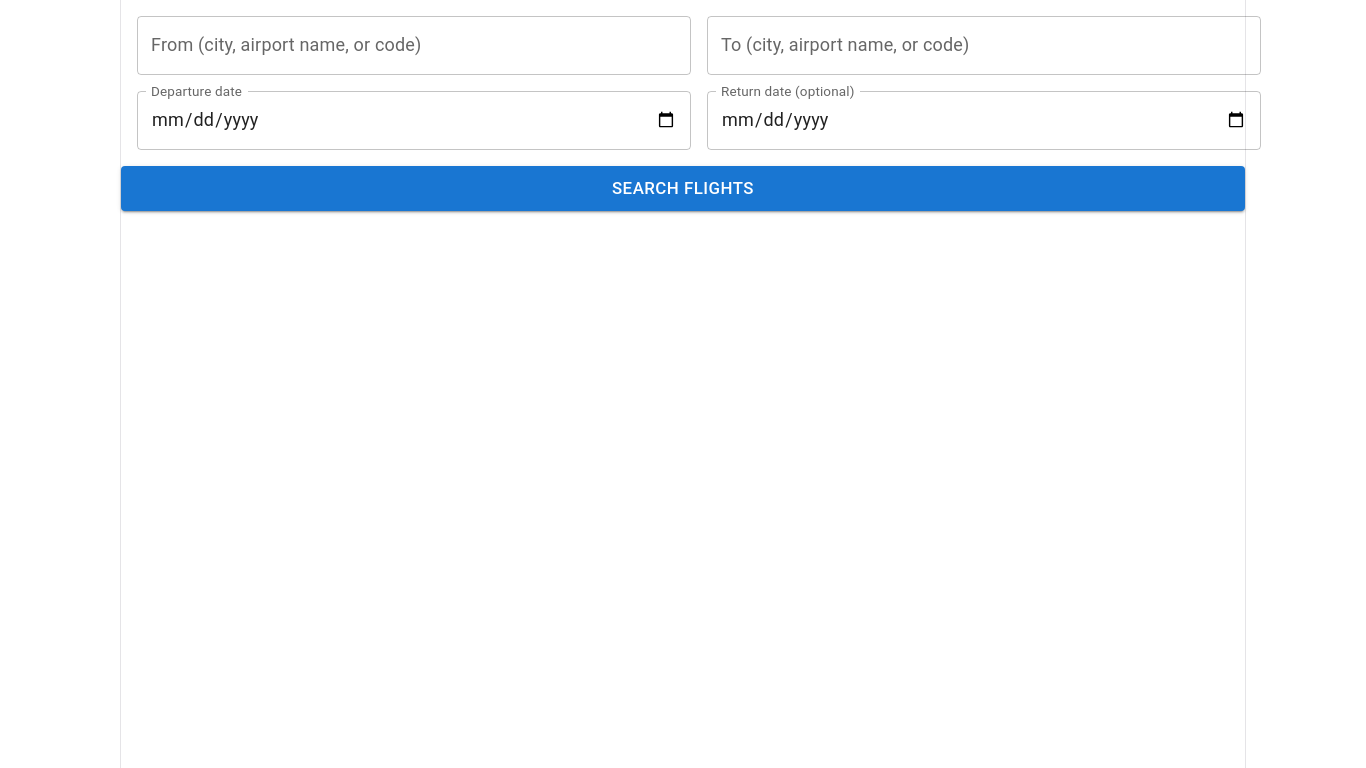
Scenario: SearchForm › rejects a return date earlier than the departure date
In the field labelled "From (city, airport name, or code)": (414, 45) [137, 16, 691, 75], type "JFK"
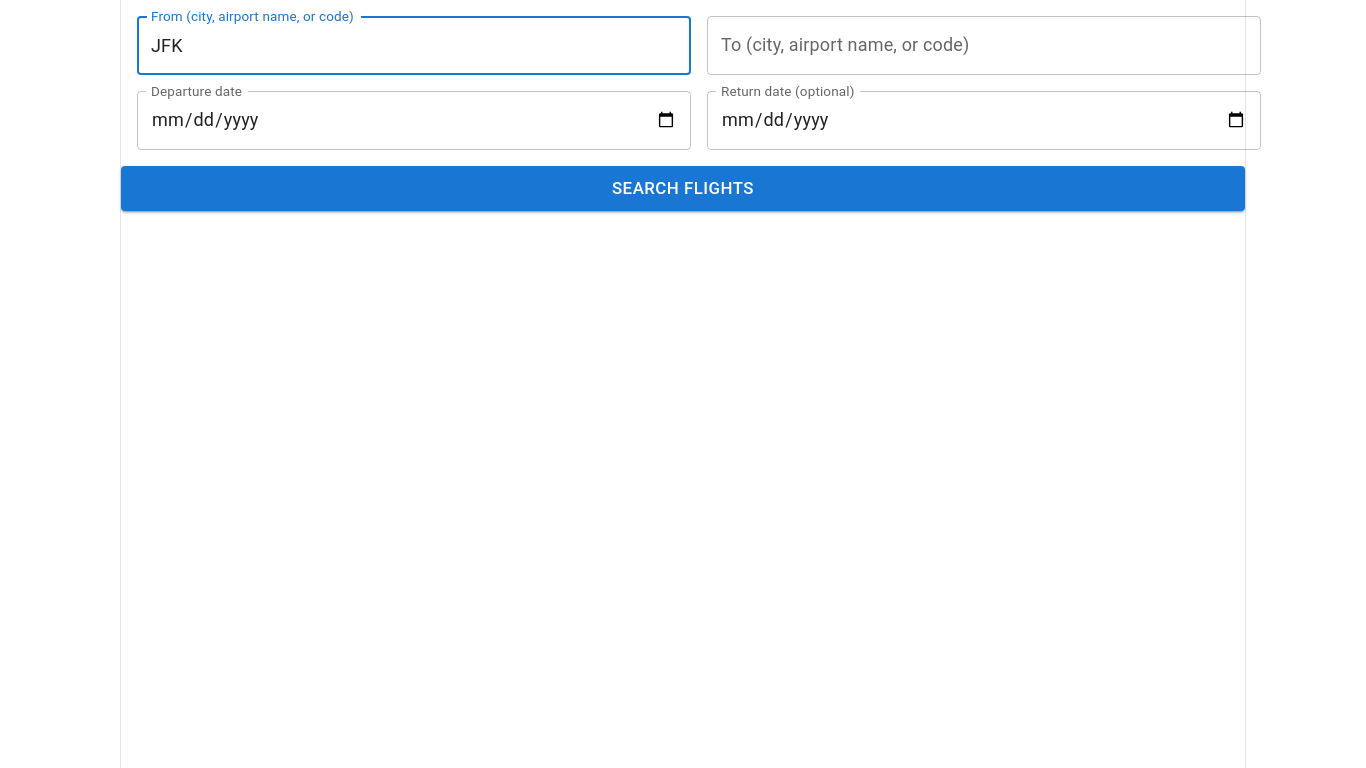
In the field labelled "To (city, airport name, or code)": (984, 45) [707, 16, 1261, 75], type "LAX"
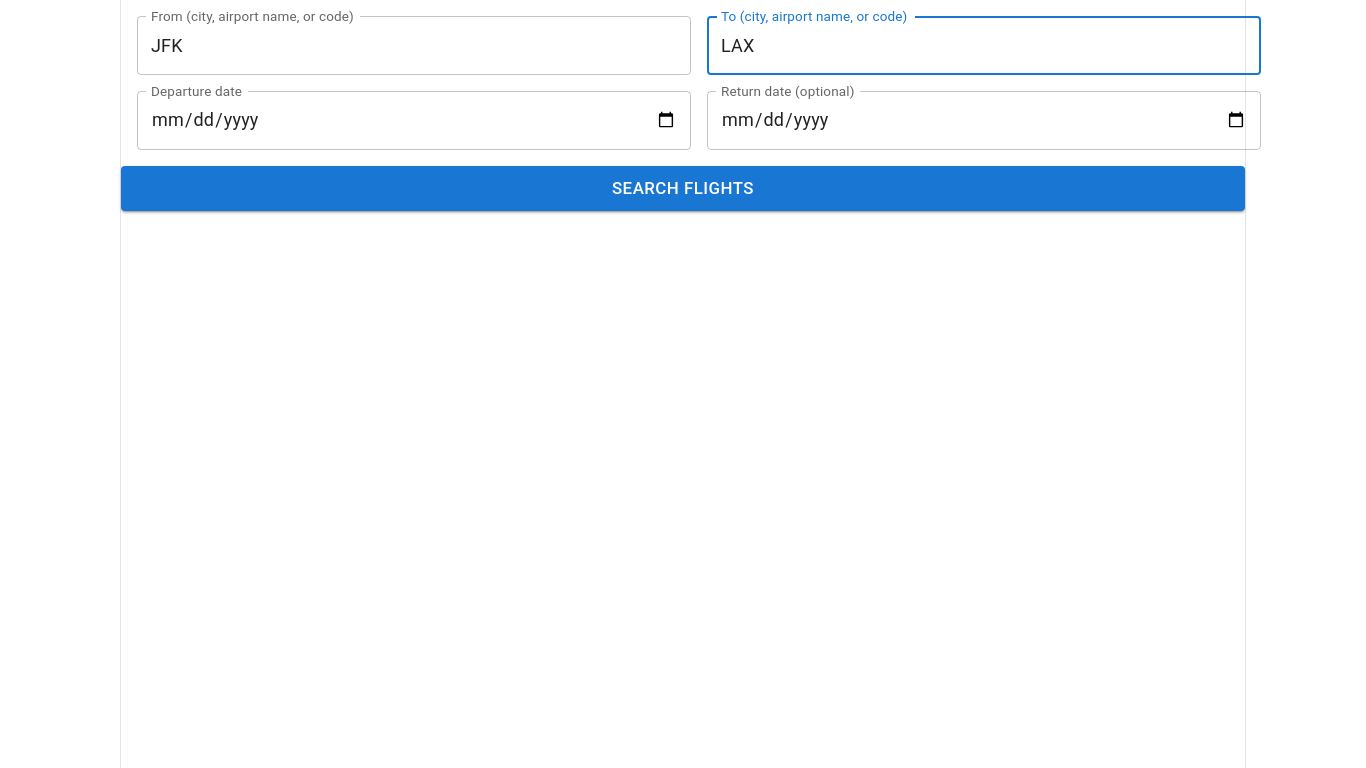
In the date field labelled "Departure date": (414, 120) [137, 91, 691, 150], type "2026-09-10"
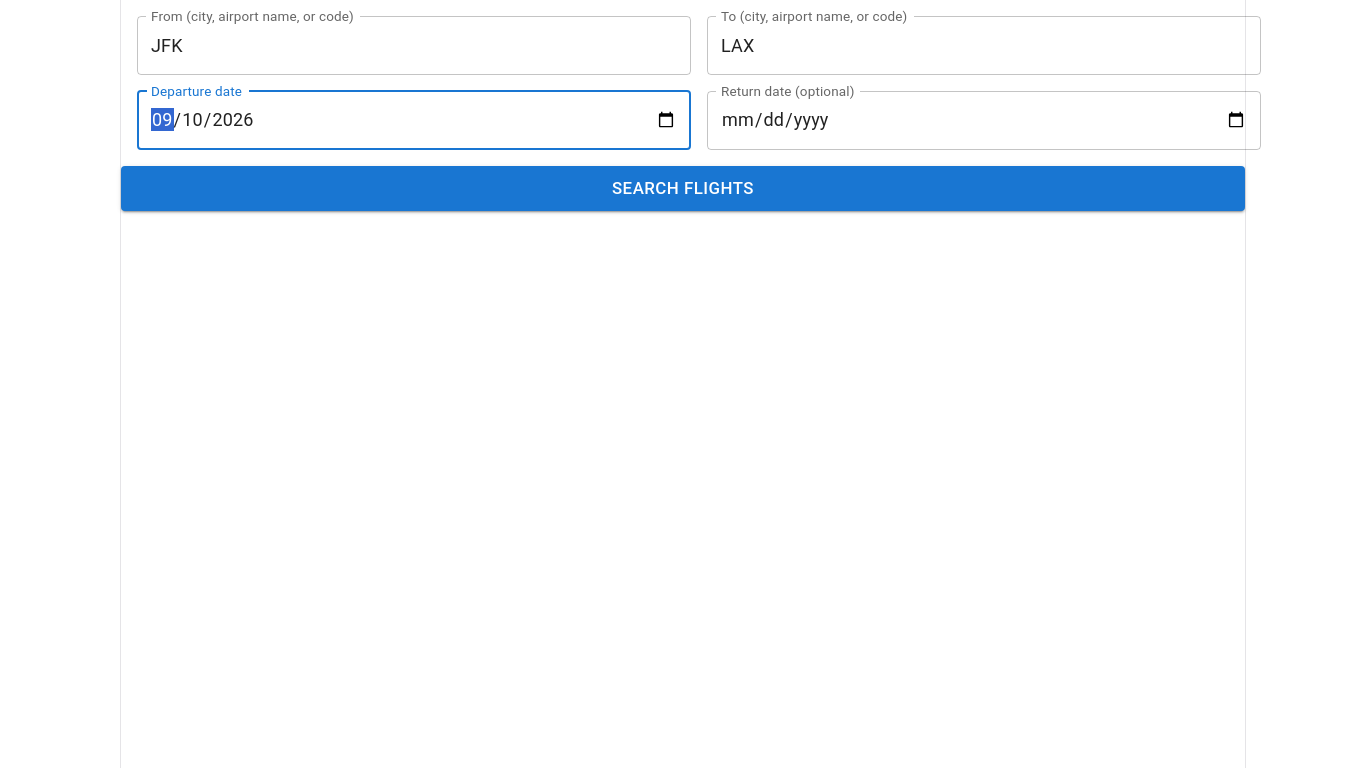
In the date field labelled "Return date (optional)": (984, 120) [707, 91, 1261, 150], type "2026-09-01"
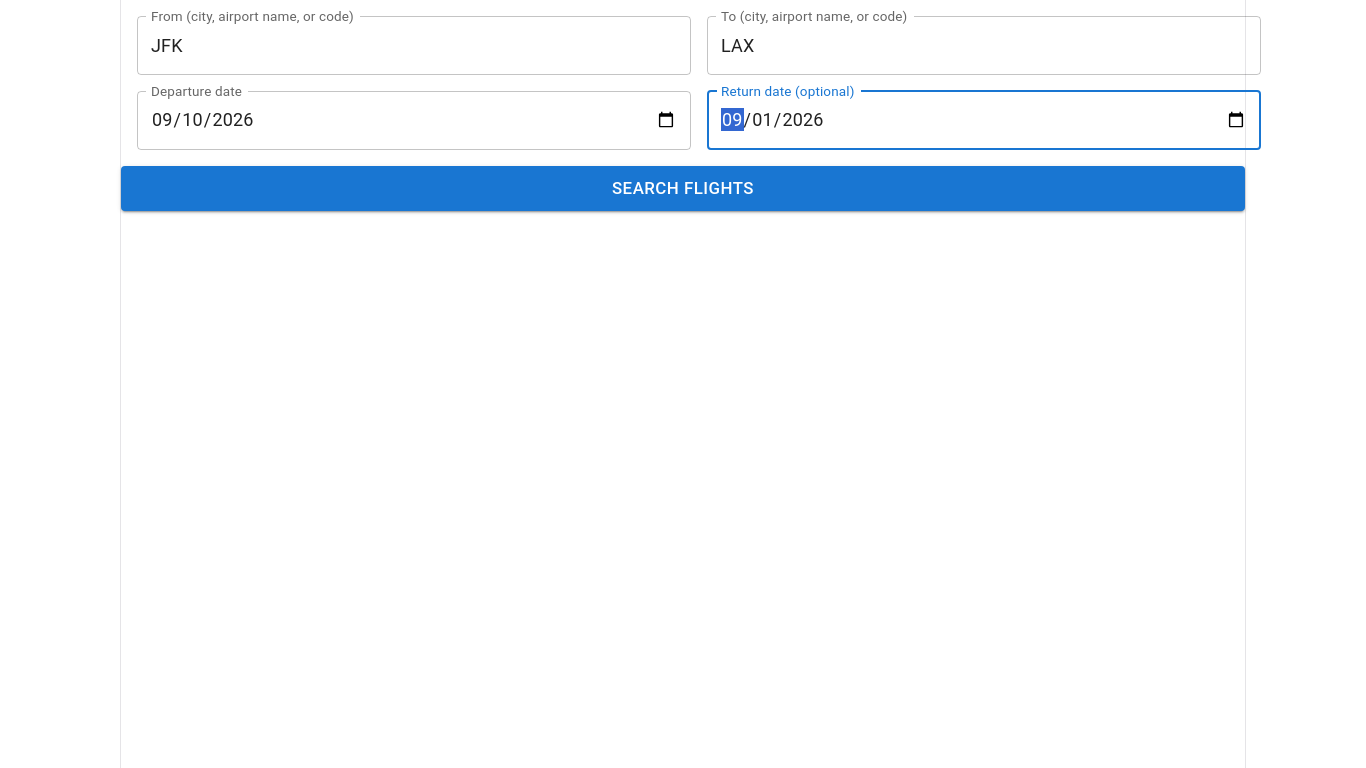
Click the button "Search Flights": (683, 189) [121, 166, 1245, 211]
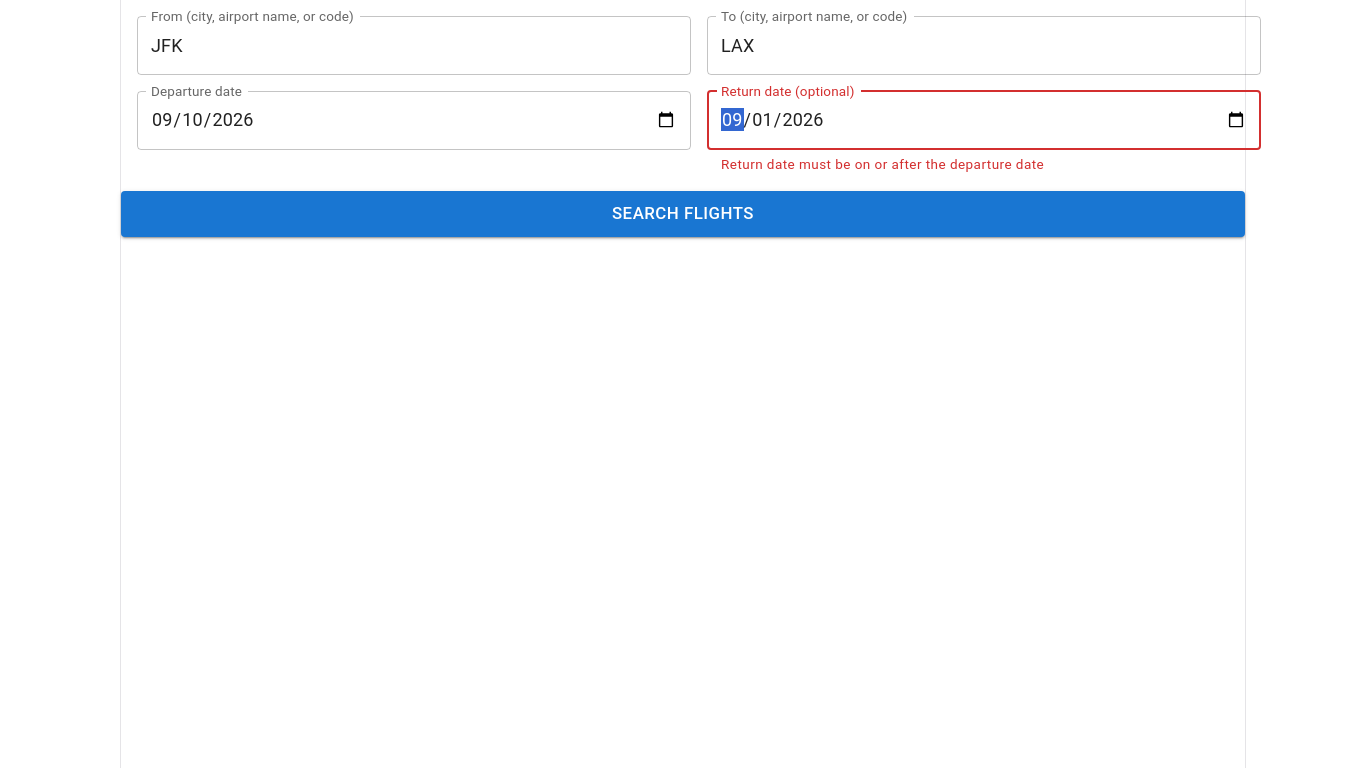
Expected: the text "Return date must be on or after the departure date" is shown, [721, 156, 1044, 172]
